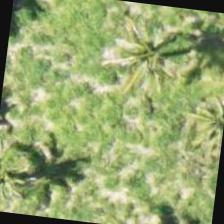Kelapa_Sawit: (110, 4, 210, 104), (168, 76, 223, 173), (0, 142, 52, 216)
